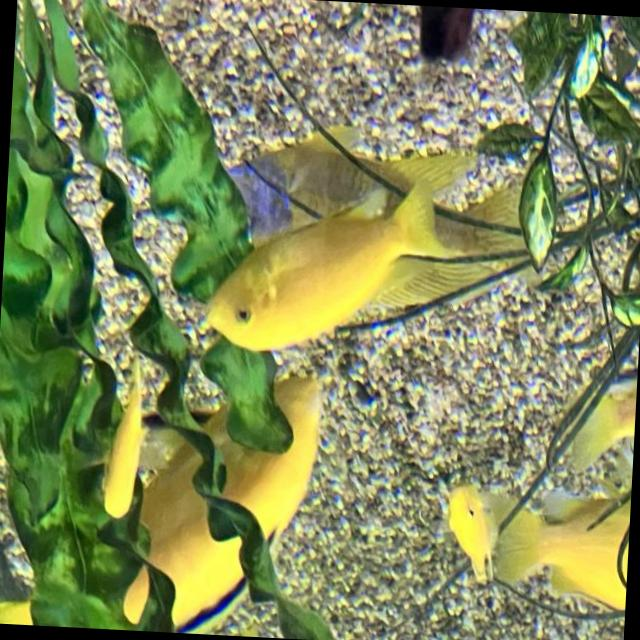YellowCichlid: (200, 139, 572, 347), (141, 372, 357, 640), (208, 205, 454, 368), (500, 476, 632, 610), (0, 530, 141, 630), (556, 366, 638, 472), (436, 464, 504, 585), (105, 347, 142, 527)
